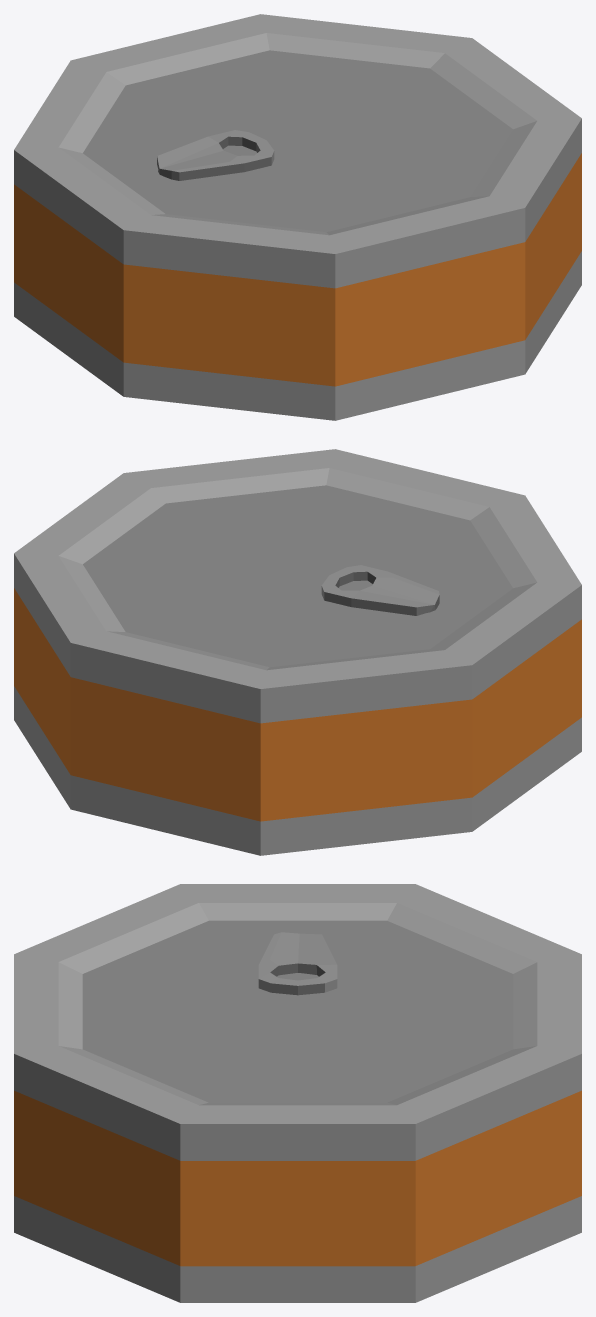
Rendered from CannedFood_09.fbx.
3 renders of one model, top to bottom at view 1: azimuth 30°, elevation 25°; view 2: azimuth 150°, elevation 25°; view 3: azimuth 270°, elevation 25°, orthographic. The views are drawn at different scales.
Parts seen in each view (by area): view 1: CannedFood_09; view 2: CannedFood_09; view 3: CannedFood_09.
Part boxes in pixels (x1=…): CannedFood_09: x1=14, y1=14, x2=581, y2=420; CannedFood_09: x1=14, y1=449, x2=581, y2=855; CannedFood_09: x1=14, y1=884, x2=581, y2=1302.
Bounding box in the file's own units: 12.67 × 4.46 × 12.67.
